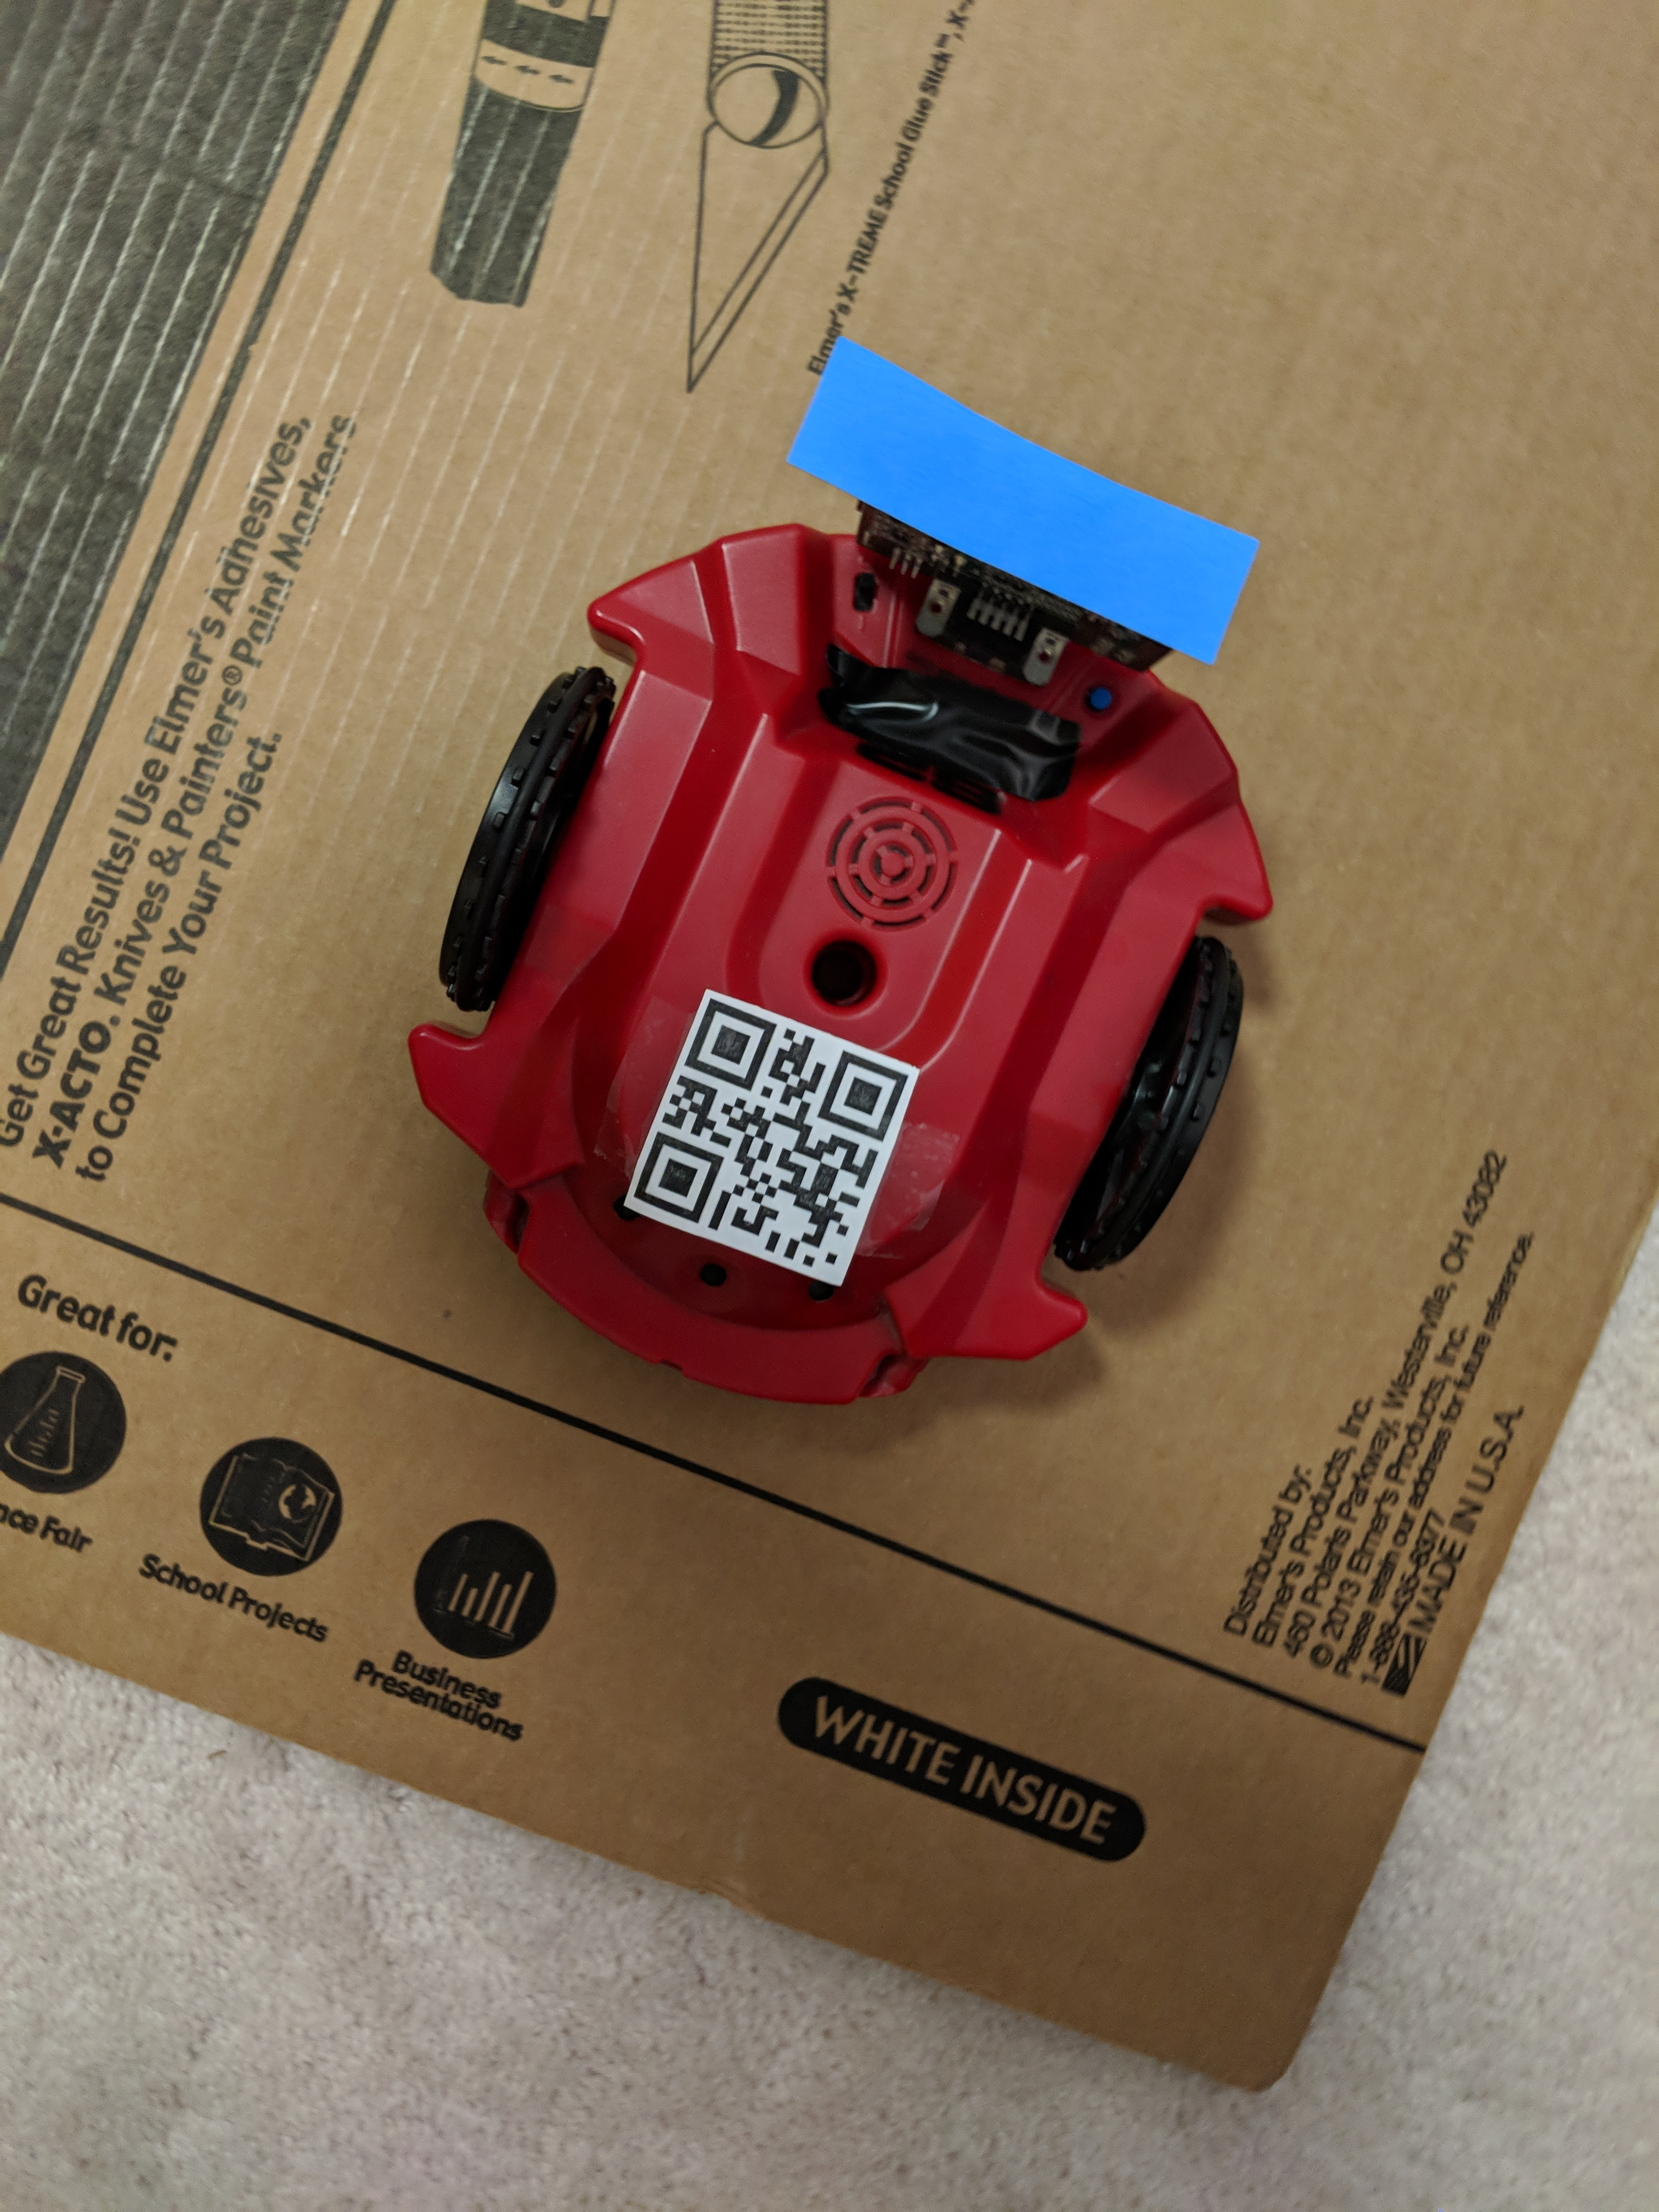chassis: (404, 334, 1298, 1442)
qr: (613, 948, 922, 1320)
